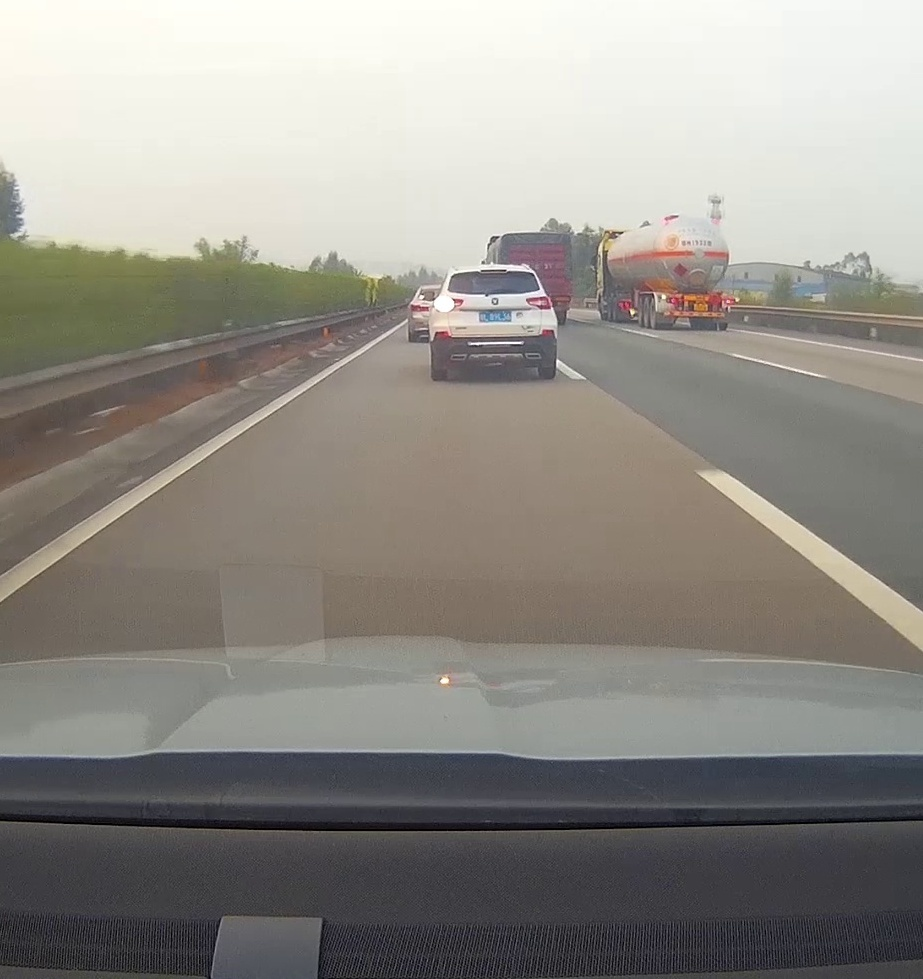L_light: (433, 297, 463, 311), (666, 298, 679, 304)
R_light: (525, 296, 552, 310), (722, 299, 734, 305)
T_light: (480, 268, 507, 274), (694, 294, 706, 299)
day-left: (429, 265, 557, 380)
day-no: (654, 292, 736, 330)
